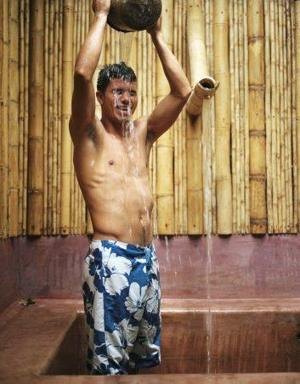person: (69, 1, 194, 376)
